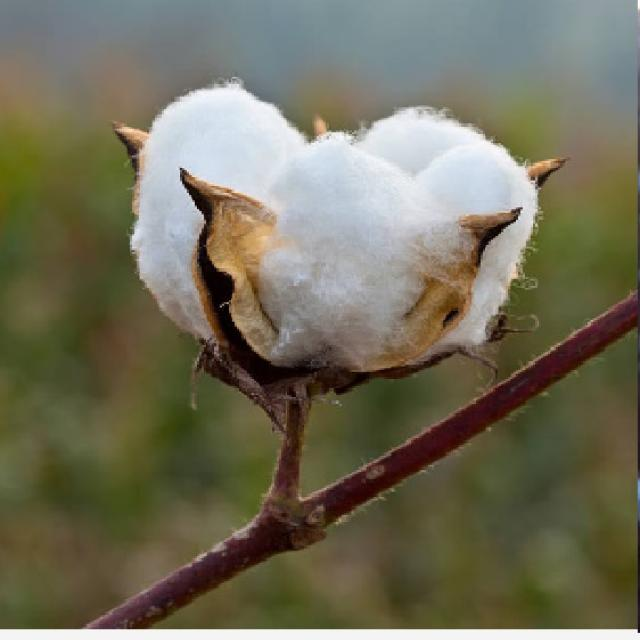Matured Cotton Boll: (139, 76, 523, 385)
